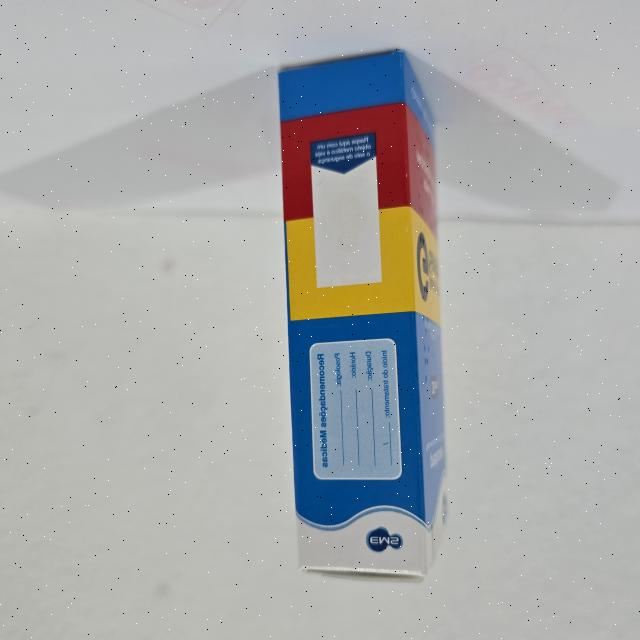prednisona: (272, 45, 454, 589)
